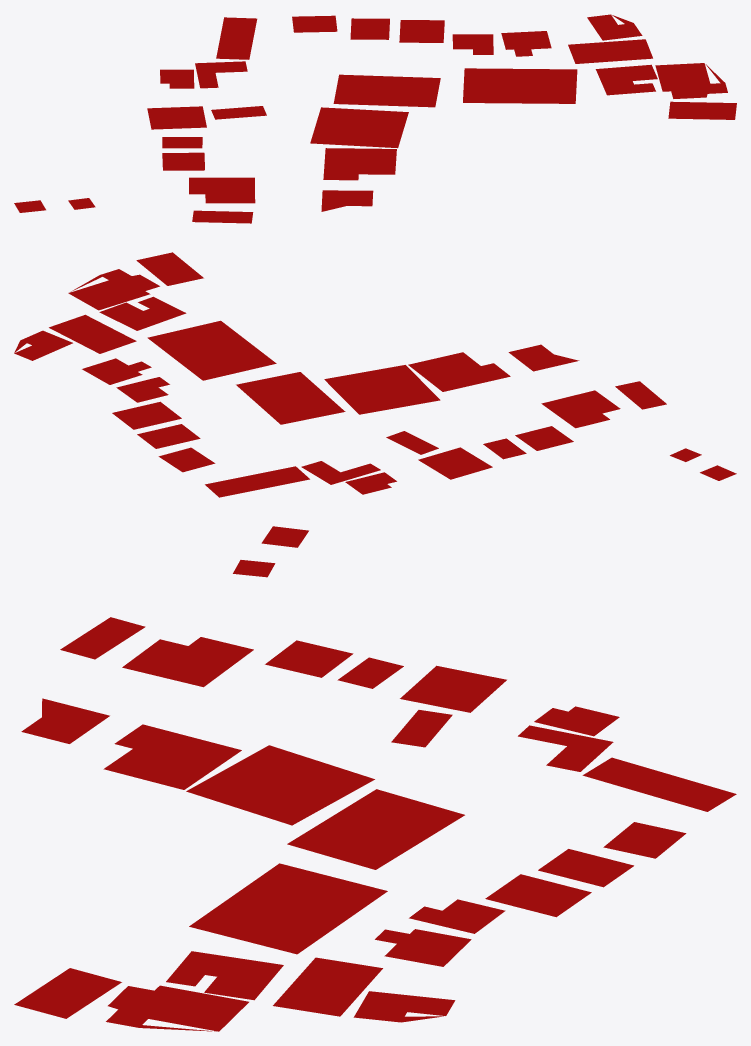
The picture shows the model from 3 angles, top to bottom: view 1: azimuth 30°, elevation 25°; view 2: azimuth 150°, elevation 25°; view 3: azimuth 270°, elevation 25°; orthographic projection. The views are drawn at different scales.
Size of the model in its own units: 144 by 0 by 87.24.
